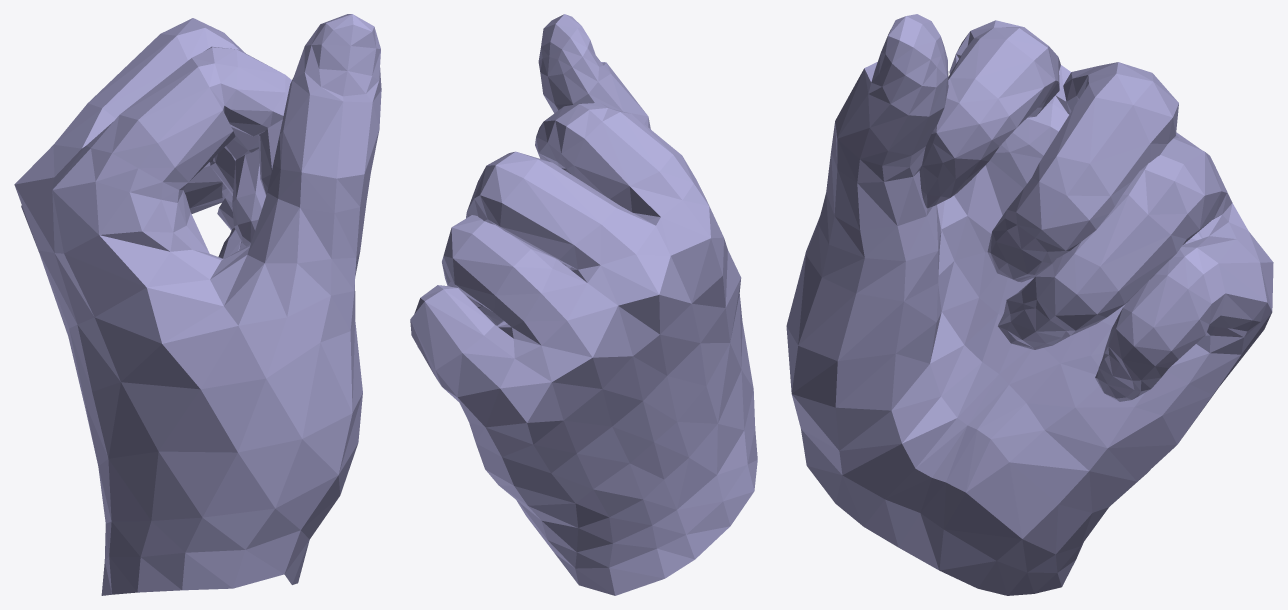
The model's file is frame_0049_source_000049_hand.glb.
The picture shows the model from 3 angles, left to right: view 1: azimuth 30°, elevation 25°; view 2: azimuth 150°, elevation 25°; view 3: azimuth 270°, elevation 25°; orthographic projection. The views are drawn at different scales.
Visible parts, largest first — view 1: world; view 2: world; view 3: world.
Boxes of the visible parts, x1,y1,x2,y2 form: world: [14, 14, 381, 595]; world: [410, 14, 757, 595]; world: [786, 14, 1273, 595].
Size of the model in its own units: 0.0624 by 0.1264 by 0.0903.
